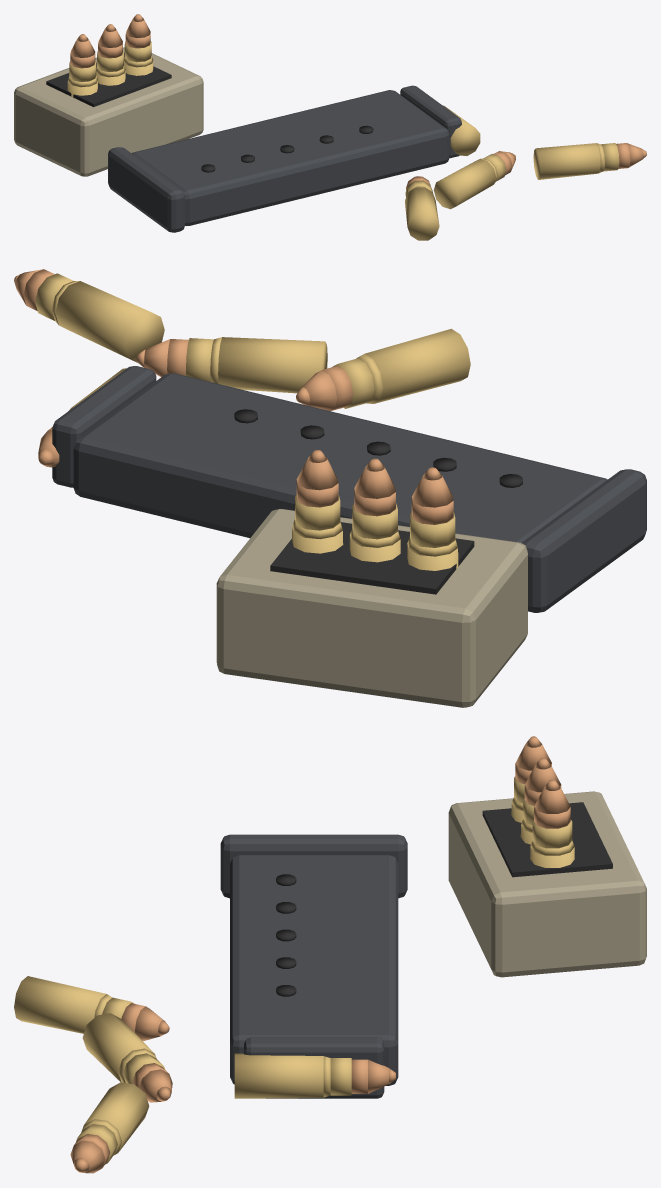
Rendered from Item_ammo_pistol.fbx.
The picture shows the model from 3 angles, top to bottom: view 1: azimuth 30°, elevation 25°; view 2: azimuth 150°, elevation 25°; view 3: azimuth 270°, elevation 25°; orthographic projection. The views are drawn at different scales.
Visible parts, largest first — view 1: model.003; view 2: model.003; view 3: model.003.
Part boxes in pixels (left/top/right/bottom): model.003: left=14, top=14, right=646, bottom=240; model.003: left=14, top=269, right=646, bottom=707; model.003: left=14, top=736, right=646, bottom=1173.
Bounding box in the file's own units: 0.1606 × 0.0395 × 0.1355.
